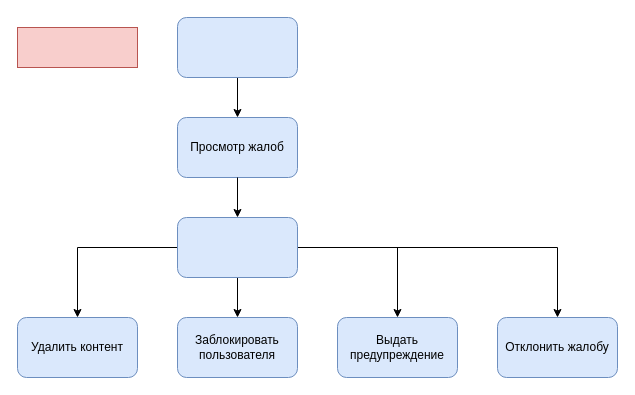
The diagram is 635 pixels wide and 395 high, and some of its shapes have lost their labels. Here are the shapes that lost their labels. From the top down, the centre of each, then its label:
At point 77,47: "Администратор".
At point 237,47: "Вход".
At point 237,247: "Просмотр контента пользователя".
